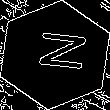N_W: (25, 32, 85, 78)
